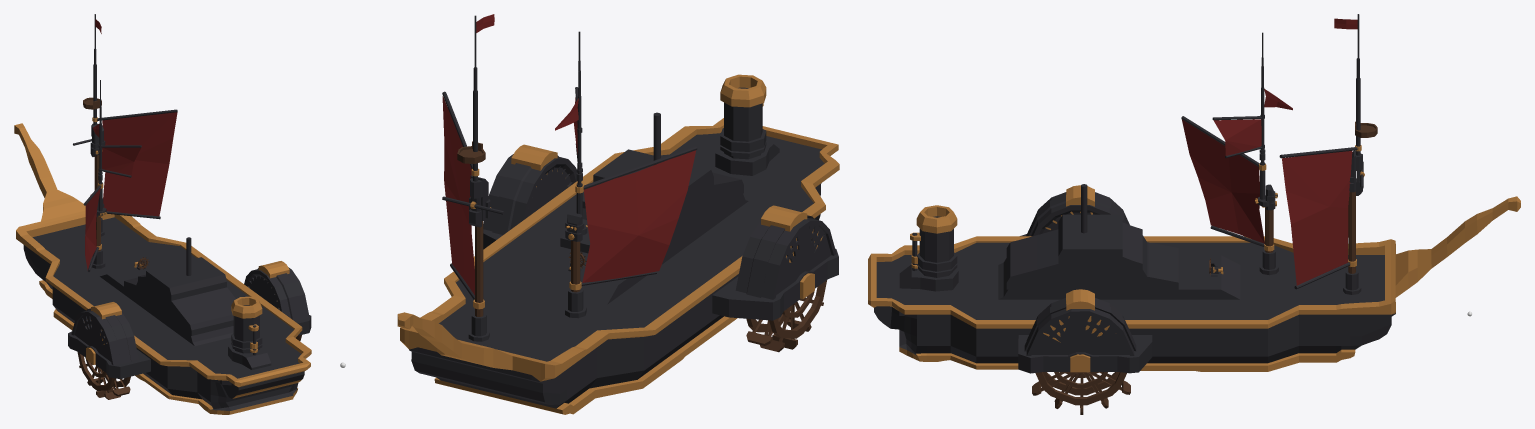
Rendered from ShipStuff_Revised.fbx.
3 views of the same model, side by side, from view 1: azimuth 30°, elevation 25°; view 2: azimuth 150°, elevation 25°; view 3: azimuth 270°, elevation 25° (orthographic). The views are drawn at different scales.
Parts seen in each view (by area): view 1: Cube.024, Cube.017, Captain/CrewQuarters, Plane, Cylinder.003, Cylinder.011, Cylinder.022, Plane.002, Plane.001; view 2: Cube.024, Cube.017, Plane.001, Captain/CrewQuarters, Cylinder.003, Cylinder.011, Plane, Cylinder.022; view 3: Cube.024, Captain/CrewQuarters, Cube.017, Plane, Plane.001, Cylinder.003, Cylinder.011, Cylinder.022, Plane.002.
Part boxes in pixels (x1=…): Cube.024: x1=14, y1=123, x2=311, y2=414; Cube.017: x1=68, y1=261, x2=311, y2=399; Captain/CrewQuarters: x1=100, y1=237, x2=235, y2=345; Plane: x1=102, y1=112, x2=177, y2=216; Cylinder.003: x1=228, y1=296, x2=271, y2=369; Cylinder.011: x1=73, y1=14, x2=177, y2=236; Cylinder.022: x1=83, y1=80, x2=141, y2=271; Plane.002: x1=102, y1=147, x2=141, y2=175; Plane.001: x1=85, y1=188, x2=100, y2=270; Cube.024: x1=397, y1=118, x2=839, y2=414; Cube.017: x1=483, y1=144, x2=838, y2=352; Plane.001: x1=582, y1=150, x2=696, y2=282; Captain/CrewQuarters: x1=524, y1=112, x2=748, y2=304; Cylinder.003: x1=715, y1=74, x2=779, y2=175; Cylinder.011: x1=442, y1=15, x2=504, y2=341; Plane: x1=442, y1=96, x2=474, y2=295; Cylinder.022: x1=565, y1=31, x2=697, y2=318; Cube.024: x1=868, y1=196, x2=1520, y2=371; Captain/CrewQuarters: x1=998, y1=184, x2=1240, y2=299; Cube.017: x1=1018, y1=185, x2=1152, y2=414; Plane: x1=1282, y1=151, x2=1352, y2=285; Plane.001: x1=1182, y1=119, x2=1264, y2=243; Cylinder.003: x1=899, y1=205, x2=958, y2=291; Cylinder.011: x1=1279, y1=14, x2=1377, y2=294; Cylinder.022: x1=1181, y1=32, x2=1278, y2=275; Plane.002: x1=1213, y1=119, x2=1261, y2=155.
Bounding box in the file's own units: 1190 × 1563 × 2619.
